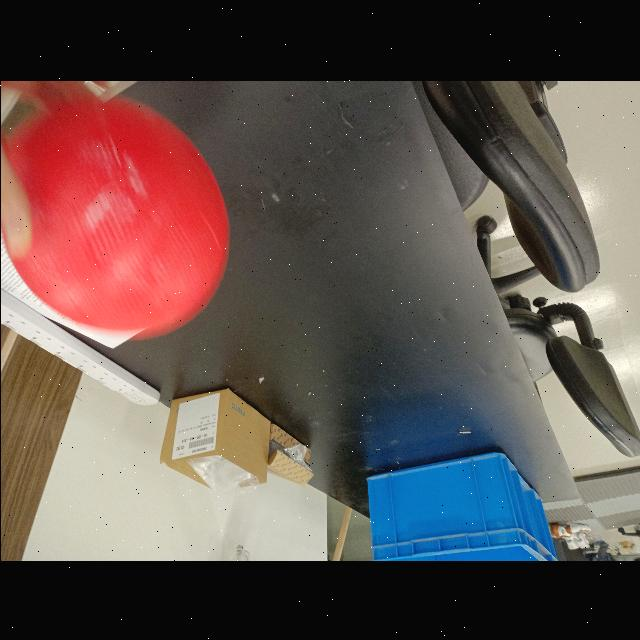R: (1, 96, 228, 340)
